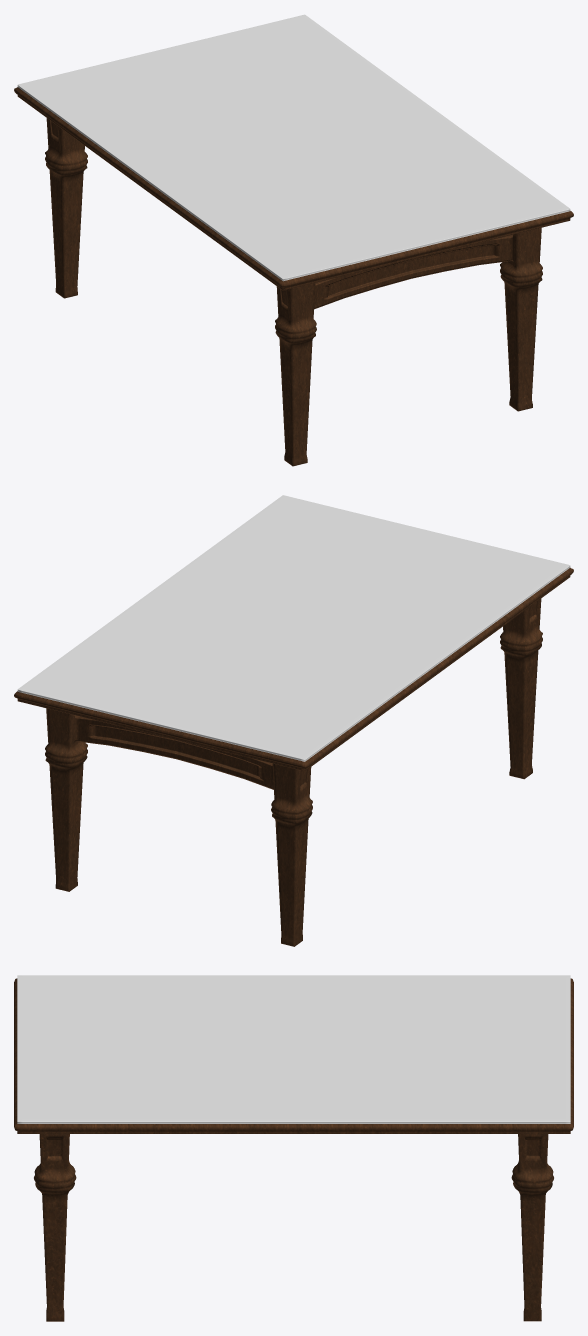
The model's file is TABLE_1.fbx.
3 views of the same model, one above another, from view 1: azimuth 30°, elevation 25°; view 2: azimuth 150°, elevation 25°; view 3: azimuth 270°, elevation 25° (orthographic). The views are drawn at different scales.
Parts seen in each view (by area): view 1: Cube; view 2: Cube; view 3: Cube.
Part boxes in pixels (x1,y1,x2,y2): Cube: [14, 14, 573, 466]; Cube: [14, 495, 573, 946]; Cube: [14, 975, 573, 1321].
Bounding box in the file's own units: 128 × 84.57 × 202.
2 materials, 1 textured.
